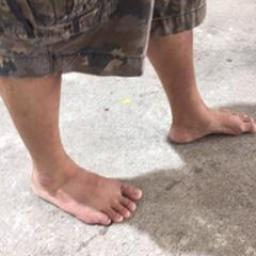Lateral View -Right Foot-: (18, 140, 148, 237)
